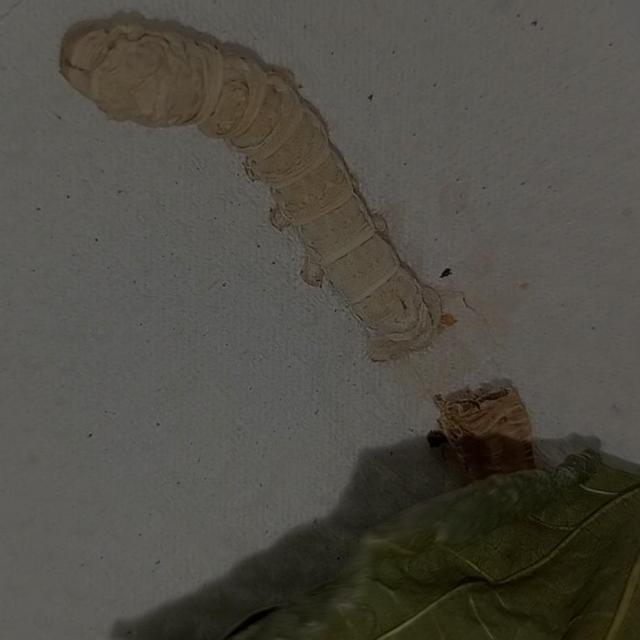Healthy: (52, 8, 466, 365)
